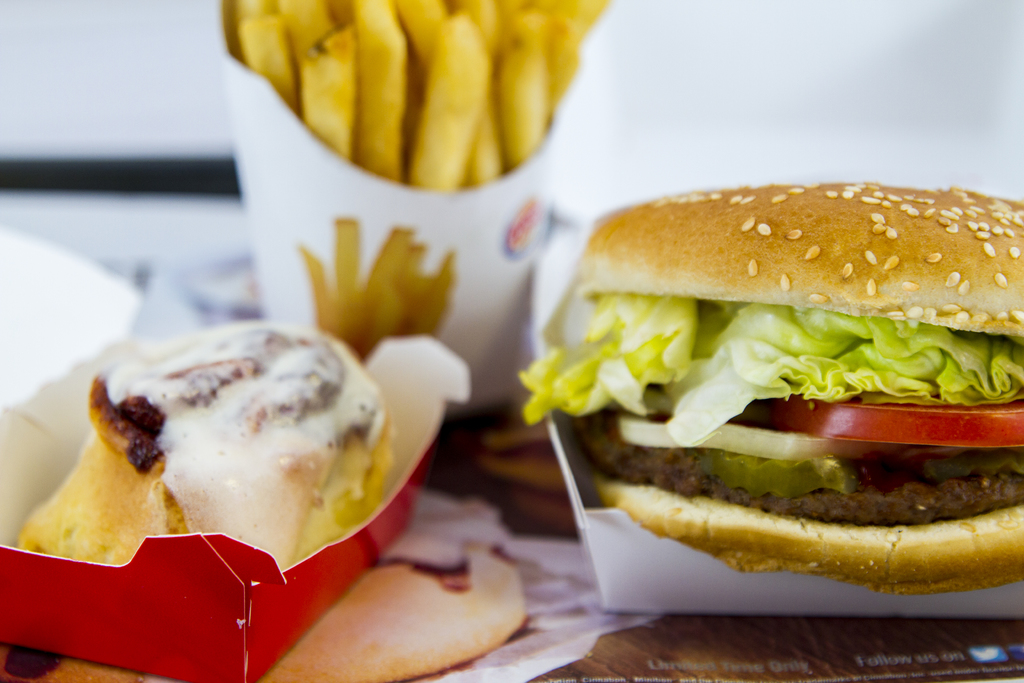French fries: (184, 0, 662, 163)
